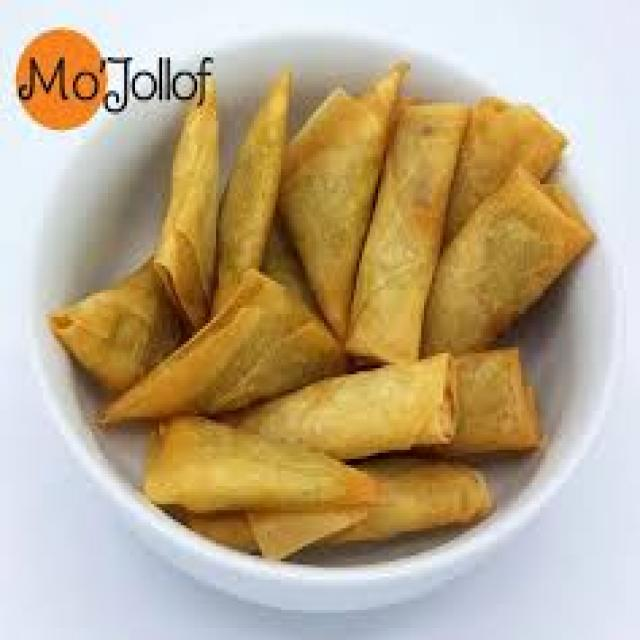Samosa: (54, 70, 381, 552)
Spring Rolls: (383, 88, 564, 350), (278, 377, 551, 444)
